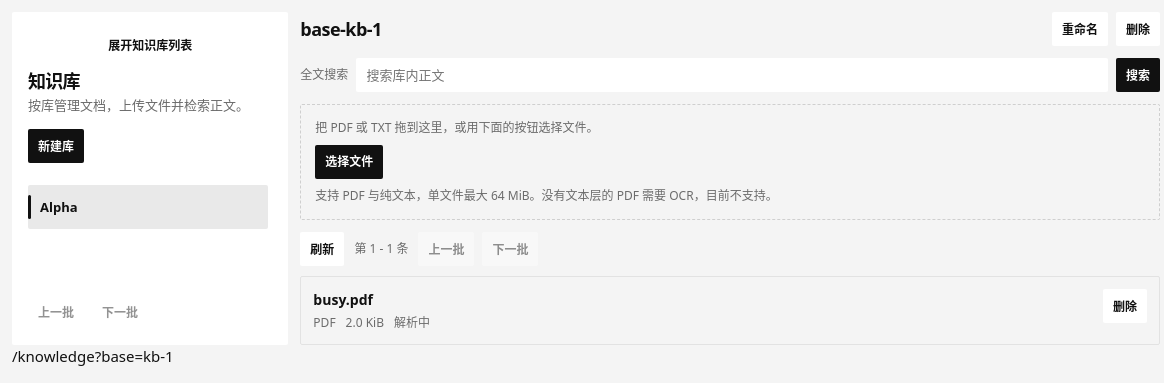
KnowledgePage › drops the rows and stops polling when a same-base refresh is refused
Expected: the text "busy.pdf" is shown, 313,290 -> 373,309
What coordinates should you click on to do the following:
click the button "刷新"
I would click on:
 (322, 249)
Its box is 300,232 -> 344,266.
Wait 15000 ms
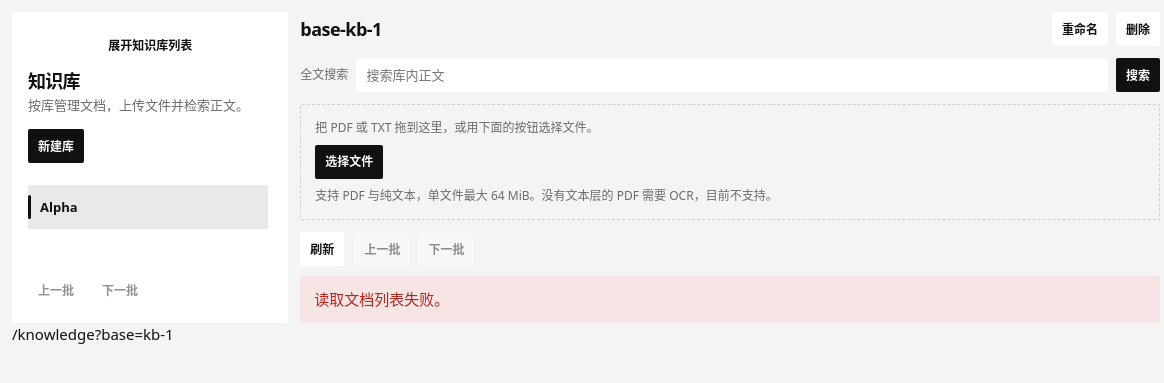
Expected: the button "下一批" below "把 PDF 或 TXT 拖到这里，或用下面的按钮选择文件。" is disabled, 418,232 -> 474,266
Result: the text "busy.pdf" is gone
Result: the text "读取文档列表失败。" is shown at 300,276 -> 1160,322
